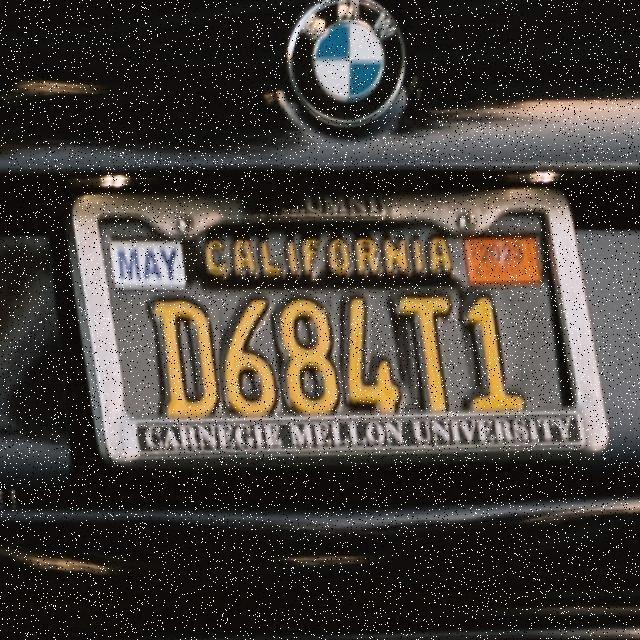LicensePlate: (70, 157, 615, 421)
